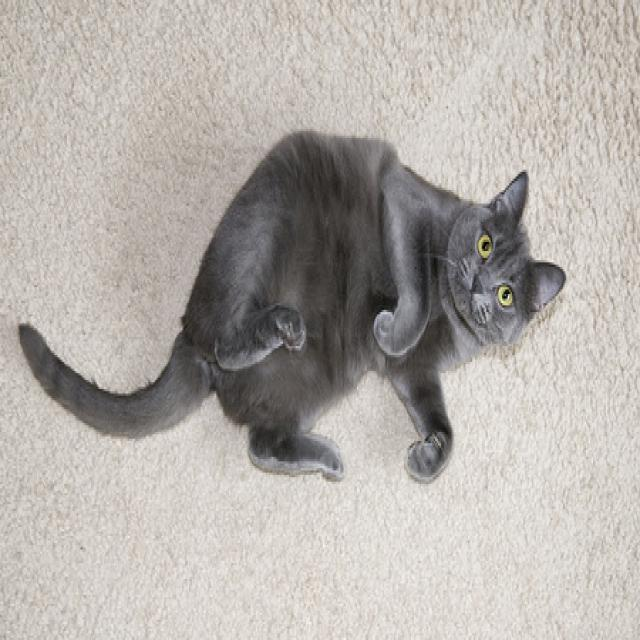Russian Blue: (18, 122, 569, 492)
